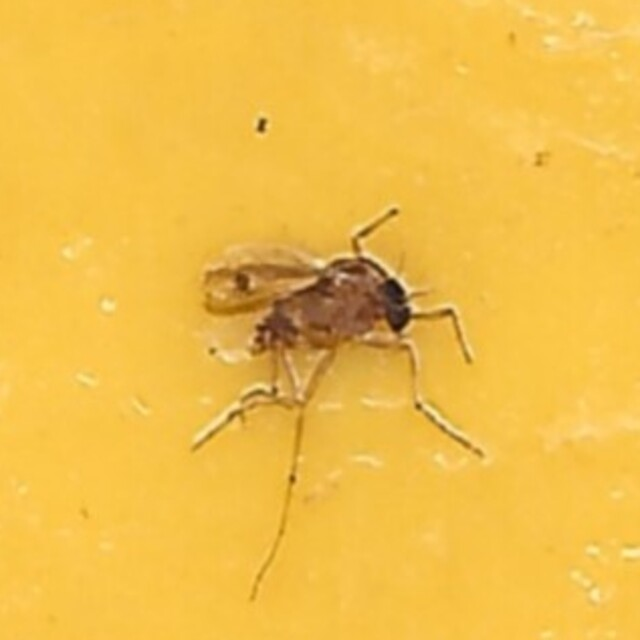Nematocera: (202, 238, 438, 402)
